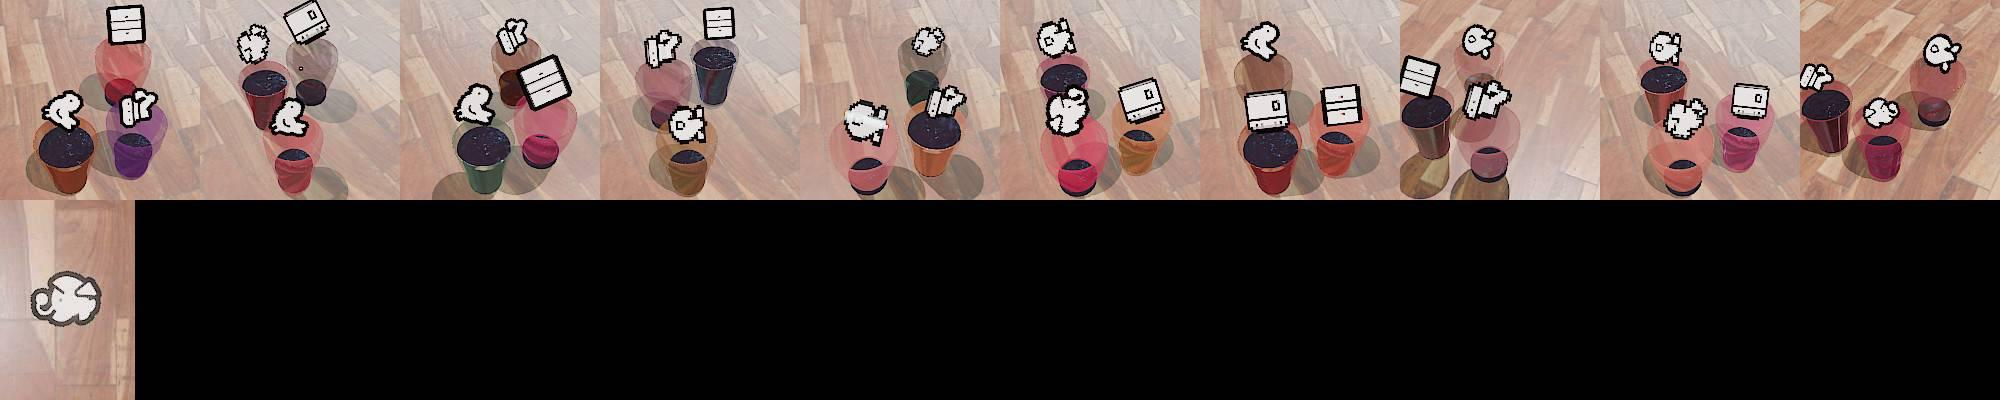icon: (28, 269, 102, 326), (517, 54, 573, 111), (842, 99, 889, 148), (1460, 78, 1513, 121), (1045, 87, 1091, 135), (1119, 76, 1165, 125), (283, 0, 329, 46), (1662, 96, 1709, 140), (1245, 88, 1291, 132), (453, 83, 495, 126), (41, 89, 84, 131), (1399, 54, 1440, 98), (1321, 82, 1362, 126), (119, 87, 159, 127), (668, 102, 708, 144), (1036, 17, 1075, 59), (268, 97, 310, 136), (106, 4, 145, 46), (1241, 20, 1281, 61), (644, 28, 682, 70), (923, 84, 966, 121), (1922, 33, 1960, 73), (1731, 83, 1770, 120), (495, 17, 531, 56), (1460, 23, 1496, 60), (1649, 29, 1684, 66), (1862, 97, 1901, 129), (237, 29, 269, 65), (1798, 62, 1834, 94), (703, 6, 735, 41), (911, 25, 944, 57)
